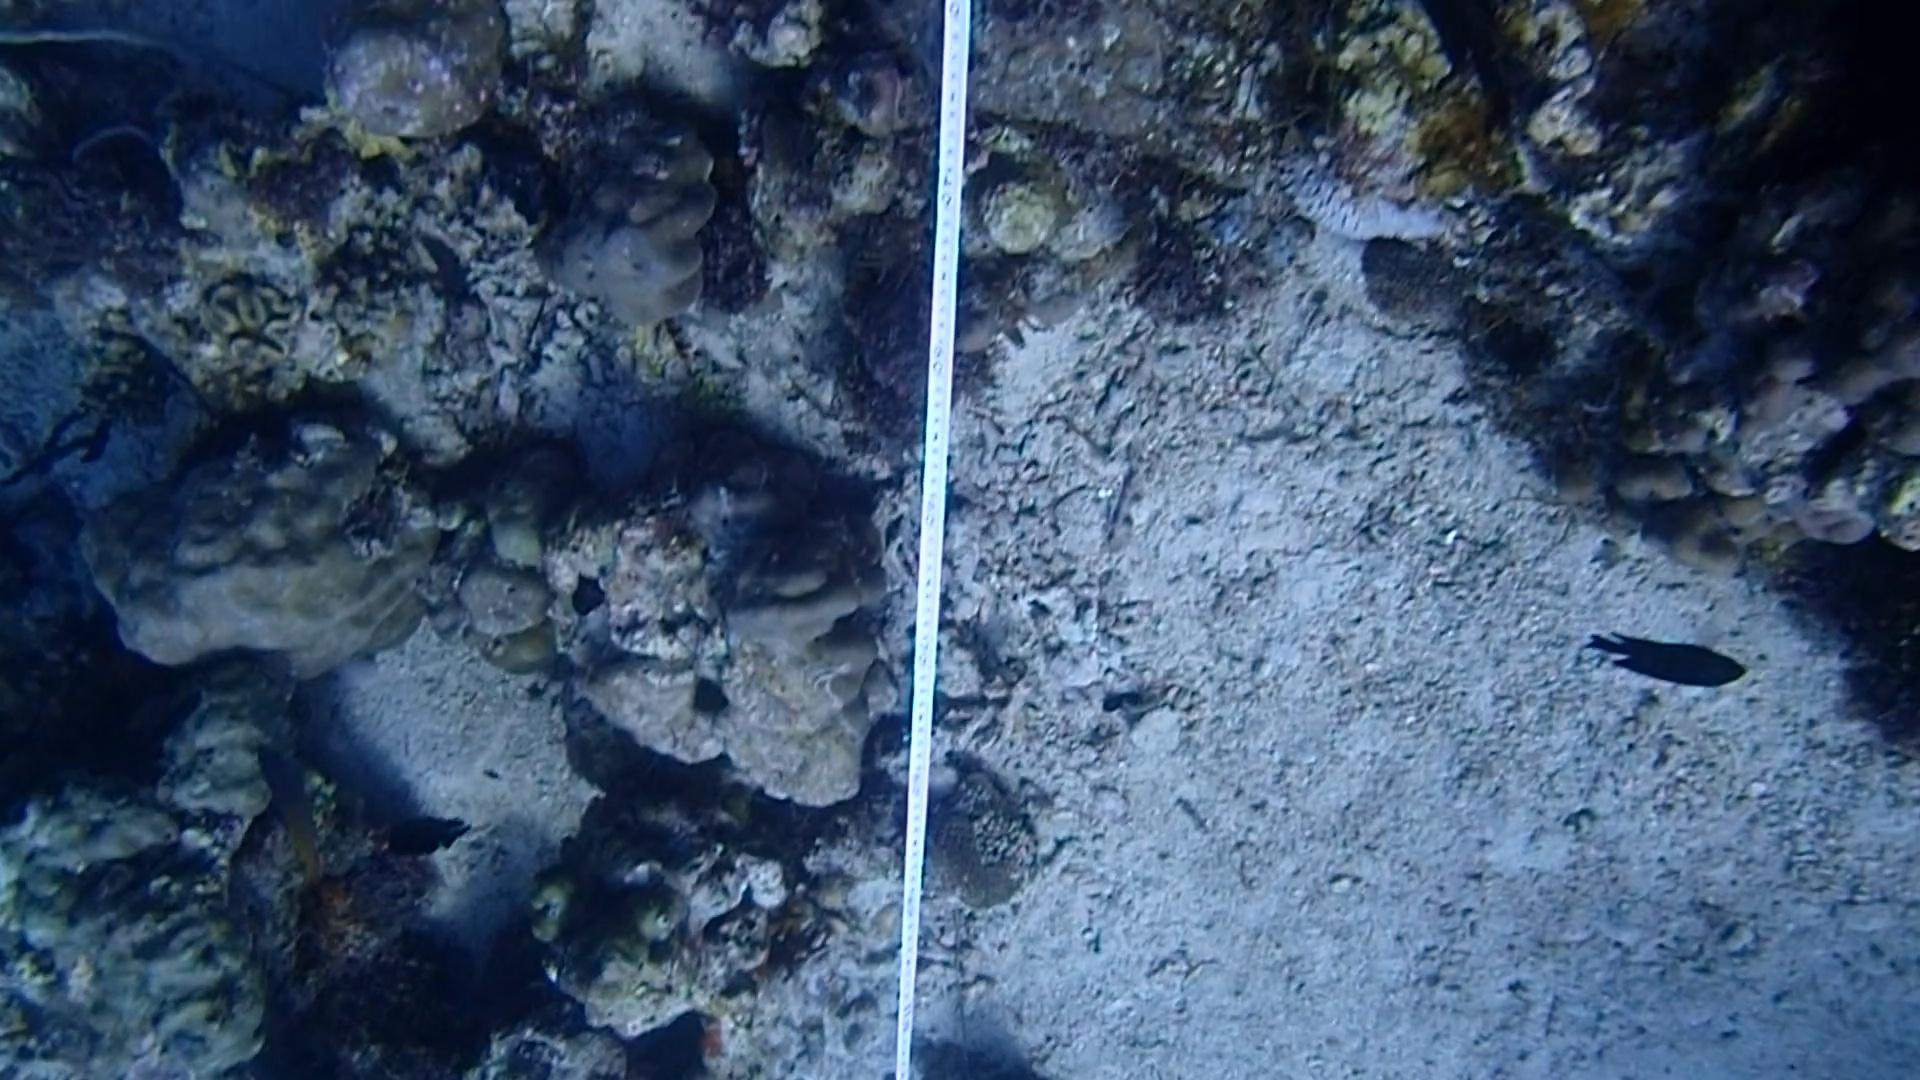Dark Fish: (1596, 617, 1759, 709), (381, 800, 483, 876)
Half Blue - Half Yellow: (245, 731, 336, 891)
